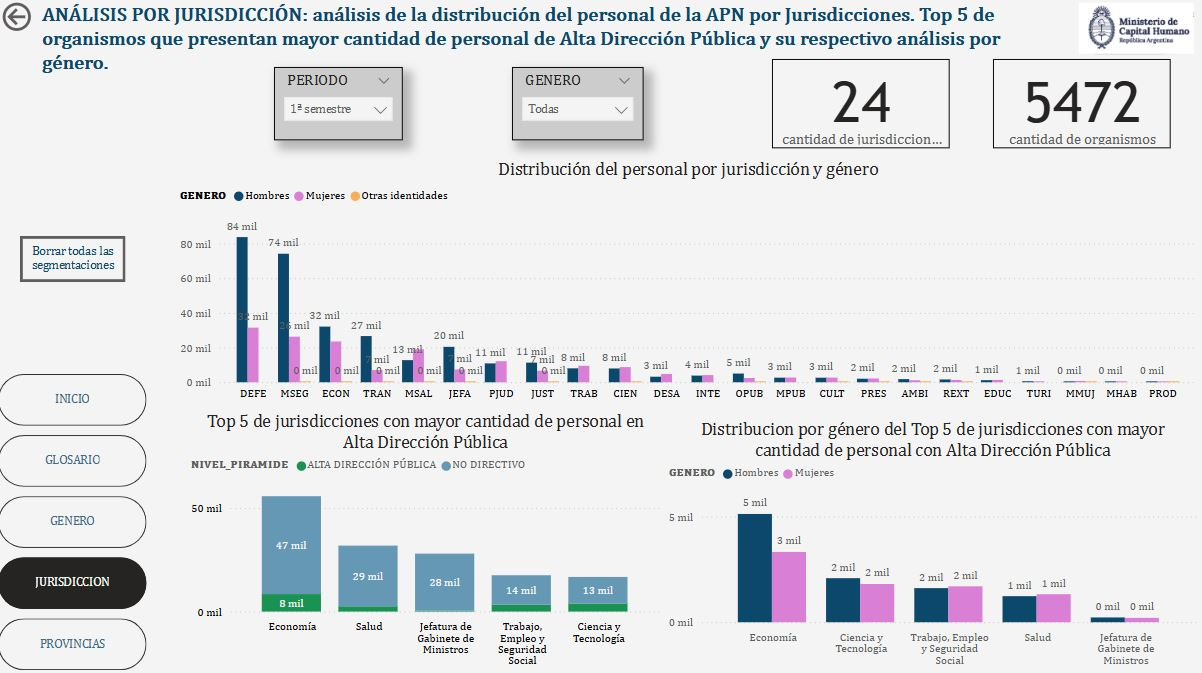

What the dashboard file says about the page in this screenshot:
{"tool":"powerbi","page":{"name":"JURISDICCIÓN","canvas":[1280,720],"ordinal":3},"visuals":[{"type":"textbox","box":[41.2,0,1098.8,94.1],"z":0},{"type":"slicer","fields":{"Values":["personal.PERIODO"]},"box":[293.8,73.4,136.8,77.8],"z":1000},{"type":"columnChart","title":"Top 5 de jurisdicciones con mayor cantidad de personal en Alta Dirección Pública","fields":{"Category":["personal.JURISDICCION"],"Y":["Sum(personal.puestos_de_trabajo)"],"Series":["personal.NIVEL_PIRAMIDE"]},"box":[199.5,440.5,509.5,279.3],"z":2000},{"type":"actionButton","box":[0,0,100,40],"z":3000},{"type":"slicer","fields":{"Values":["personal.GENERO"]},"box":[547.2,73.4,139.7,77.8],"z":4000},{"type":"clusteredColumnChart","title":"Distribucion por género del Top 5 de jurisdicciones con mayor cantidad de personal con Alta Dirección Pública","fields":{"Category":["personal.JURISDICCION"],"Series":["personal.GENERO"],"Y":["personal.Total acumulado de puestos_de_trabajo"]},"box":[709,449.3,571.6,270.1],"z":5000},{"type":"image","box":[1140,0,140,64.6],"z":6000},{"type":"pageNavigator","box":[0,400.3,158.4,318.2],"z":7000},{"type":"actionButton","box":[23,253.4,112.3,49],"z":8000},{"type":"card","fields":{"Values":["medidas principales.cantidad de jurisdicciones"]},"box":[823.7,64.8,188.6,95],"z":9000},{"type":"card","fields":{"Values":["medidas principales.cantidad de organismos"]},"box":[1058.4,64.8,188.6,95],"z":10000},{"type":"clusteredColumnChart","title":"Distribución del personal por jurisdicción y género","fields":{"Category":["personal.ID_JURUSDICCION"],"Series":["personal.GENERO"],"Y":["Sum(personal.puestos_de_trabajo)"]},"box":[188.8,171.9,1091.2,262.4],"z":11000}]}

Visuals, with their boxes in screenshot pixels (x1, y1, x2, y2), scaled from the page's 1280x720 canvas onto the 1202x673 screenshot:
textbox: crop(39, 0, 1071, 88)
slicer - personal.PERIODO: crop(276, 69, 404, 141)
"Top 5 de jurisdicciones con mayor cantidad de personal en Alta Dirección Pública" columnChart: crop(187, 412, 666, 672)
actionButton: crop(0, 0, 94, 37)
slicer - personal.GENERO: crop(514, 69, 645, 141)
"Distribucion por género del Top 5 de jurisdicciones con mayor cantidad de personal con Alta Dirección Pública" clusteredColumnChart: crop(666, 420, 1201, 672)
image: crop(1071, 0, 1201, 60)
pageNavigator: crop(0, 374, 149, 672)
actionButton: crop(22, 237, 127, 283)
card - medidas principales.cantidad de jurisdicciones: crop(774, 61, 951, 149)
card - medidas principales.cantidad de organismos: crop(994, 61, 1171, 149)
"Distribución del personal por jurisdicción y género" clusteredColumnChart: crop(177, 161, 1201, 406)
